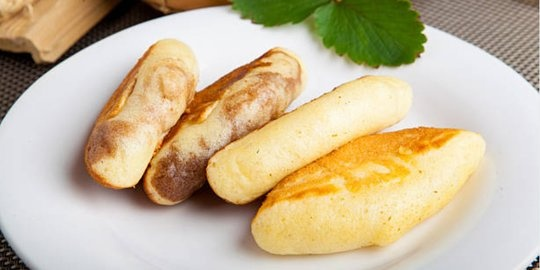pukis: (227, 125, 509, 258)
